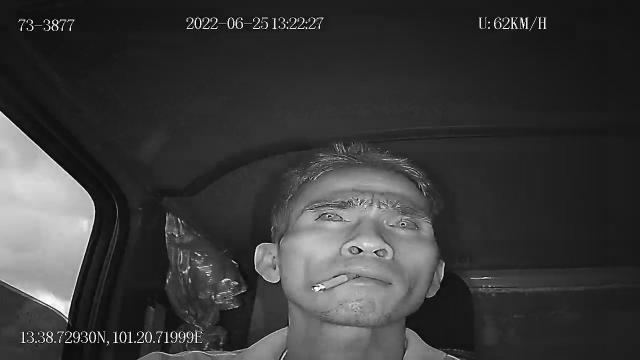SafeDriving: (380, 210, 428, 236), (310, 206, 353, 226)
Smoking: (311, 272, 357, 292)
